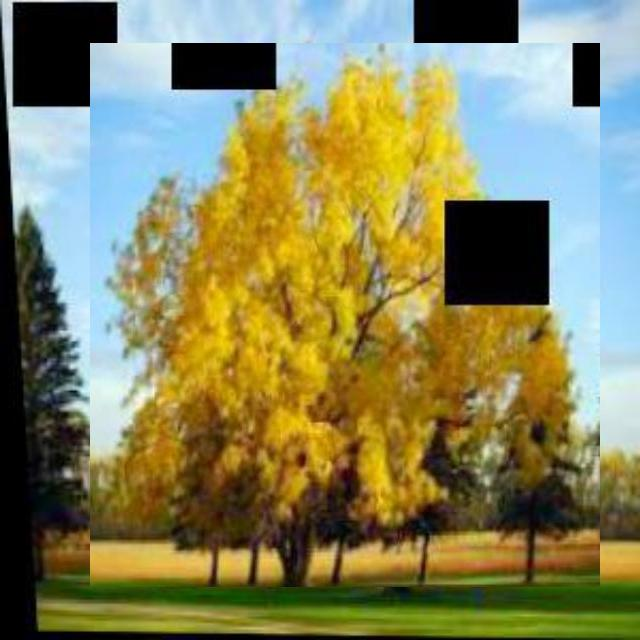tree: (90, 43, 600, 587)
